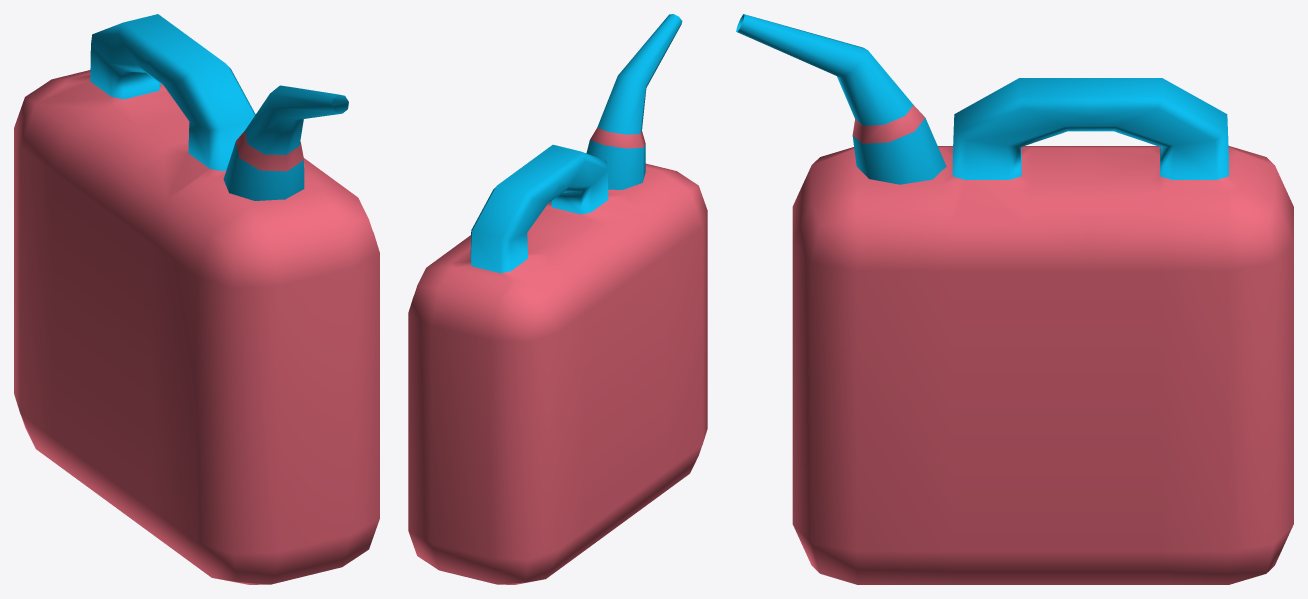
The model's file is Fuelcangeo1.fbx.
3 views of the same model, side by side, from view 1: azimuth 30°, elevation 25°; view 2: azimuth 150°, elevation 25°; view 3: azimuth 270°, elevation 25° (orthographic). The views are drawn at different scales.
Parts seen in each view (by area): view 1: Fuelcangeo1; view 2: Fuelcangeo1; view 3: Fuelcangeo1.
Boxes of the visible parts, <box> form: Fuelcangeo1: <box>14,14,379,584</box>; Fuelcangeo1: <box>408,14,707,584</box>; Fuelcangeo1: <box>736,14,1293,584</box>.
Size of the model in its own units: 100 by 280 by 258.
